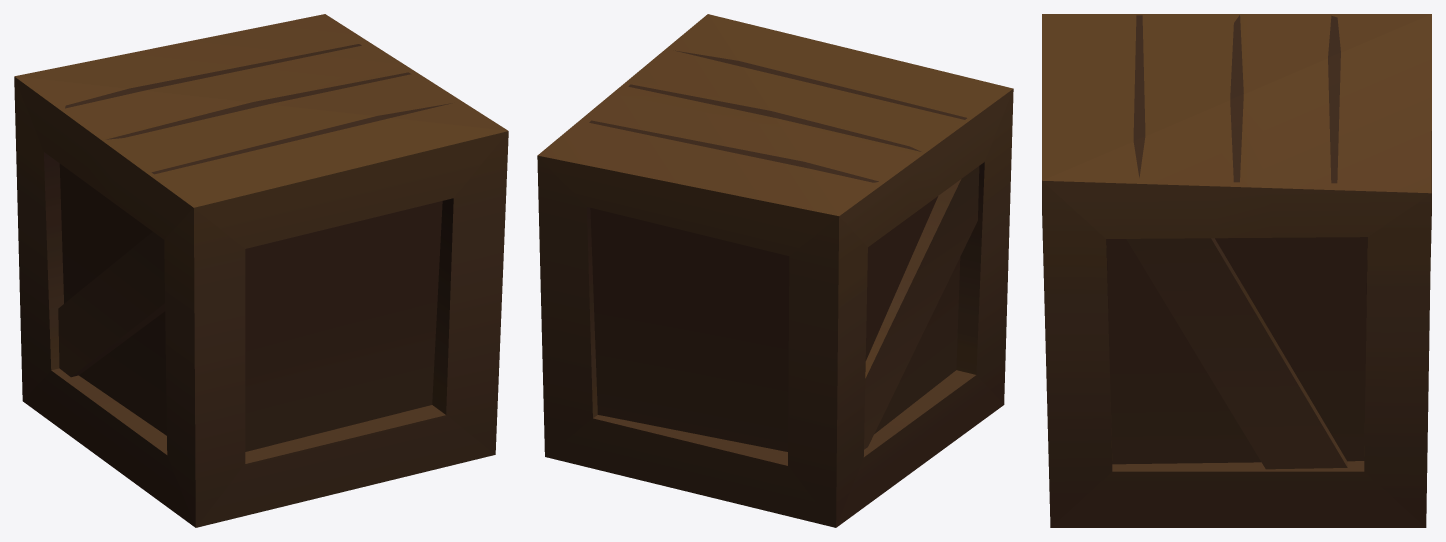
The model's file is Wooden_Box_1A.fbx.
3 renders of one model, left to right at view 1: azimuth 30°, elevation 25°; view 2: azimuth 150°, elevation 25°; view 3: azimuth 270°, elevation 25°, orthographic. The views are drawn at different scales.
Visible parts, largest first — view 1: Wooden_Box_1A; view 2: Wooden_Box_1A; view 3: Wooden_Box_1A.
Part boxes in pixels (box(x1,y1,x2,y2)): Wooden_Box_1A: box(14, 14, 508, 527); Wooden_Box_1A: box(537, 14, 1013, 527); Wooden_Box_1A: box(1042, 14, 1431, 527).
Size of the model in its own units: 101 by 99.82 by 100.
